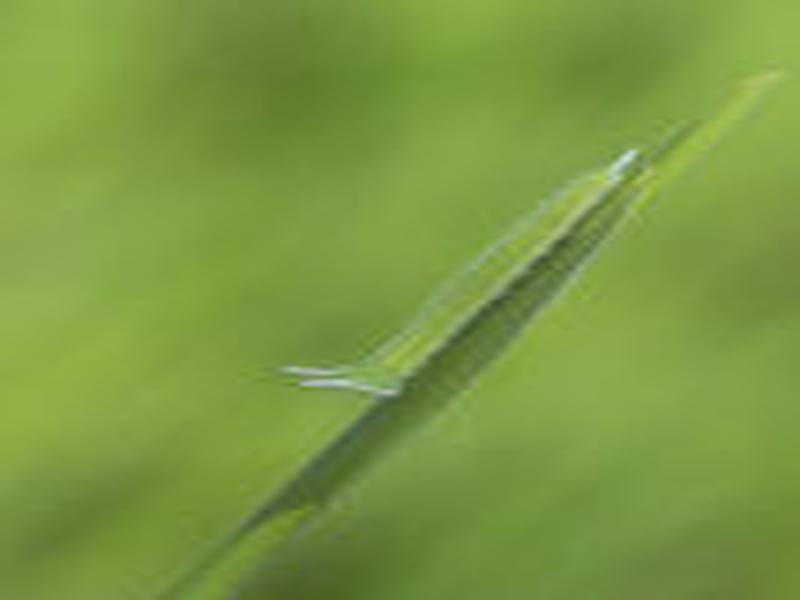Rice_horned_caterpillar: (262, 145, 664, 443)
